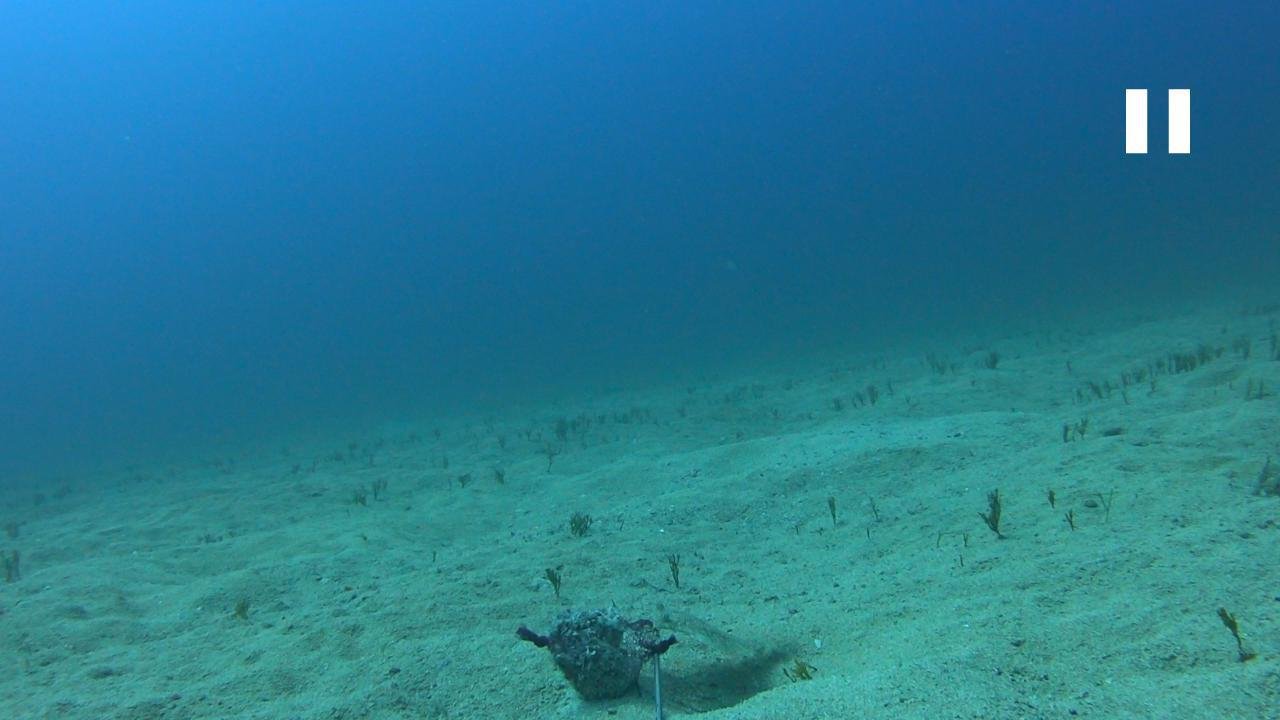bothus: (645, 592, 790, 662)
